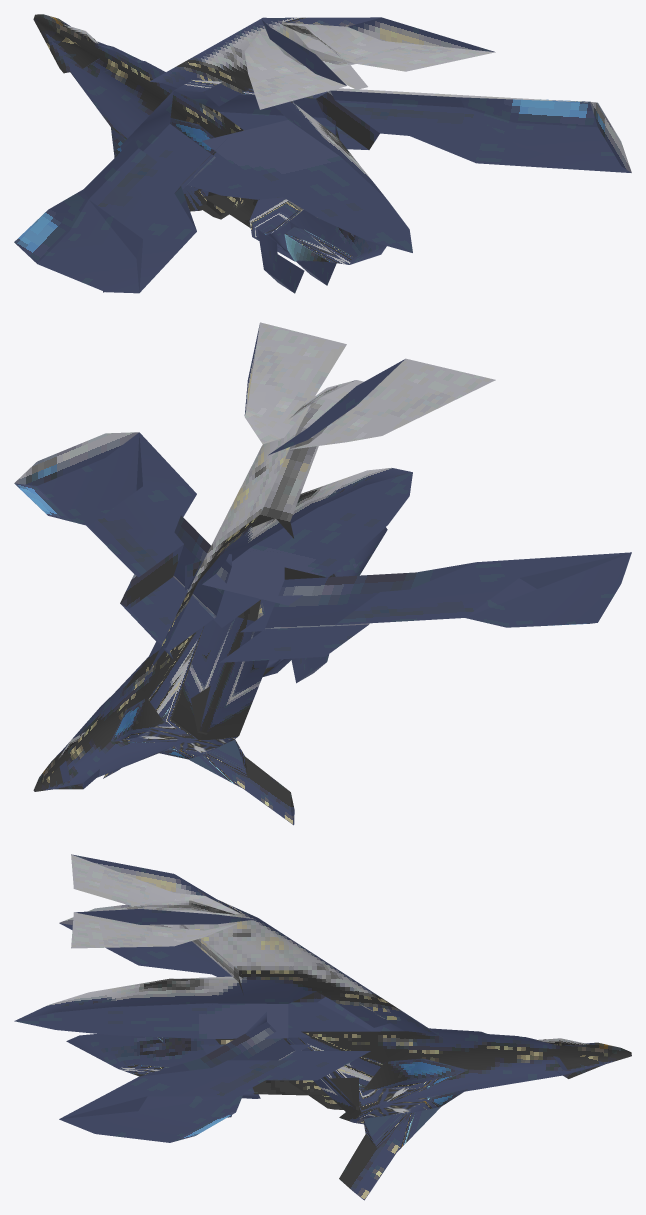
File: ps2_save-icons_galaxyangel2eigoukaikinokoku.glb
The picture shows the model from 3 angles, top to bottom: view 1: azimuth 30°, elevation 25°; view 2: azimuth 150°, elevation 25°; view 3: azimuth 270°, elevation 25°; orthographic projection. The views are drawn at different scales.
Visible parts, largest first — view 1: mc.ico; view 2: mc.ico; view 3: mc.ico.
Part boxes in pixels (x1,y1,x2,y2): mc.ico: (14, 14, 631, 293); mc.ico: (14, 322, 631, 825); mc.ico: (14, 854, 631, 1200).
Bounding box in the file's own units: 4.16 × 2.21 × 4.73.
Materials: 1 (1 with a texture image).
